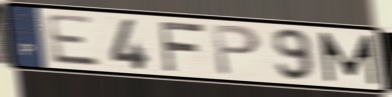4: (108, 16, 153, 72)
9: (271, 28, 317, 83)
E: (43, 12, 104, 68)
F: (155, 19, 207, 73)
M: (316, 30, 381, 86)
P: (209, 23, 263, 79)
